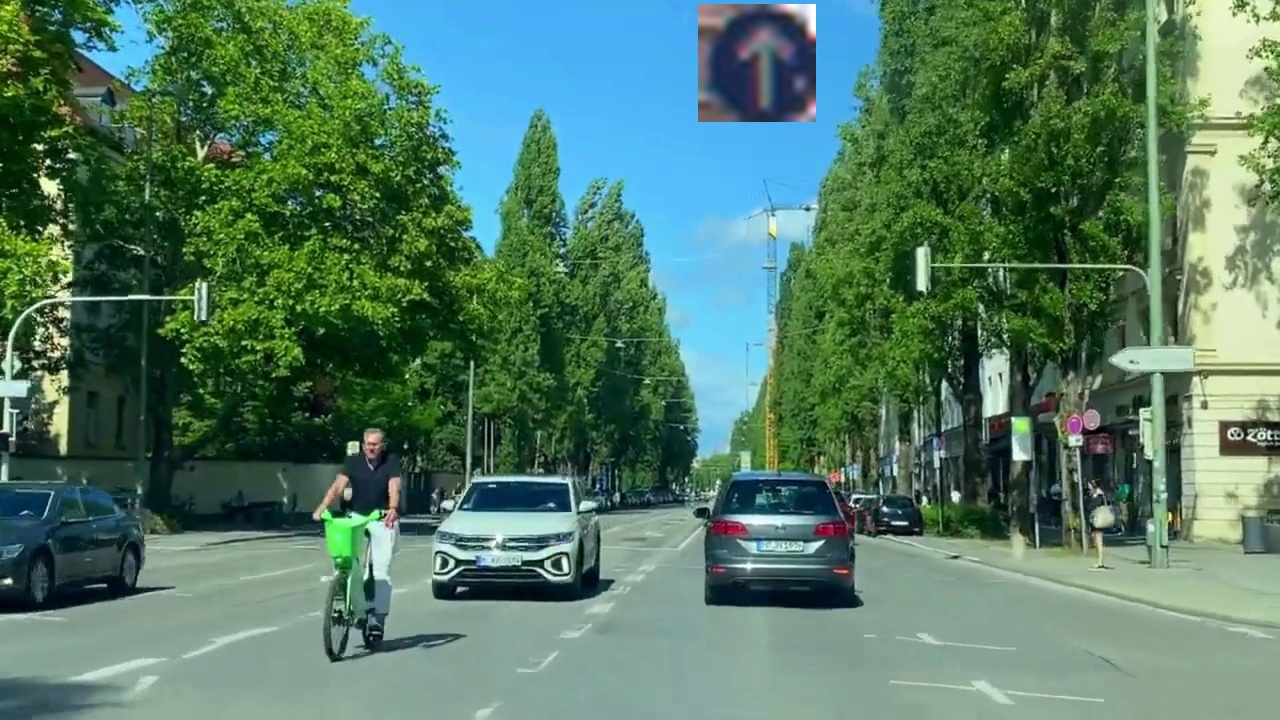Ahead only: (698, 4, 816, 122)
